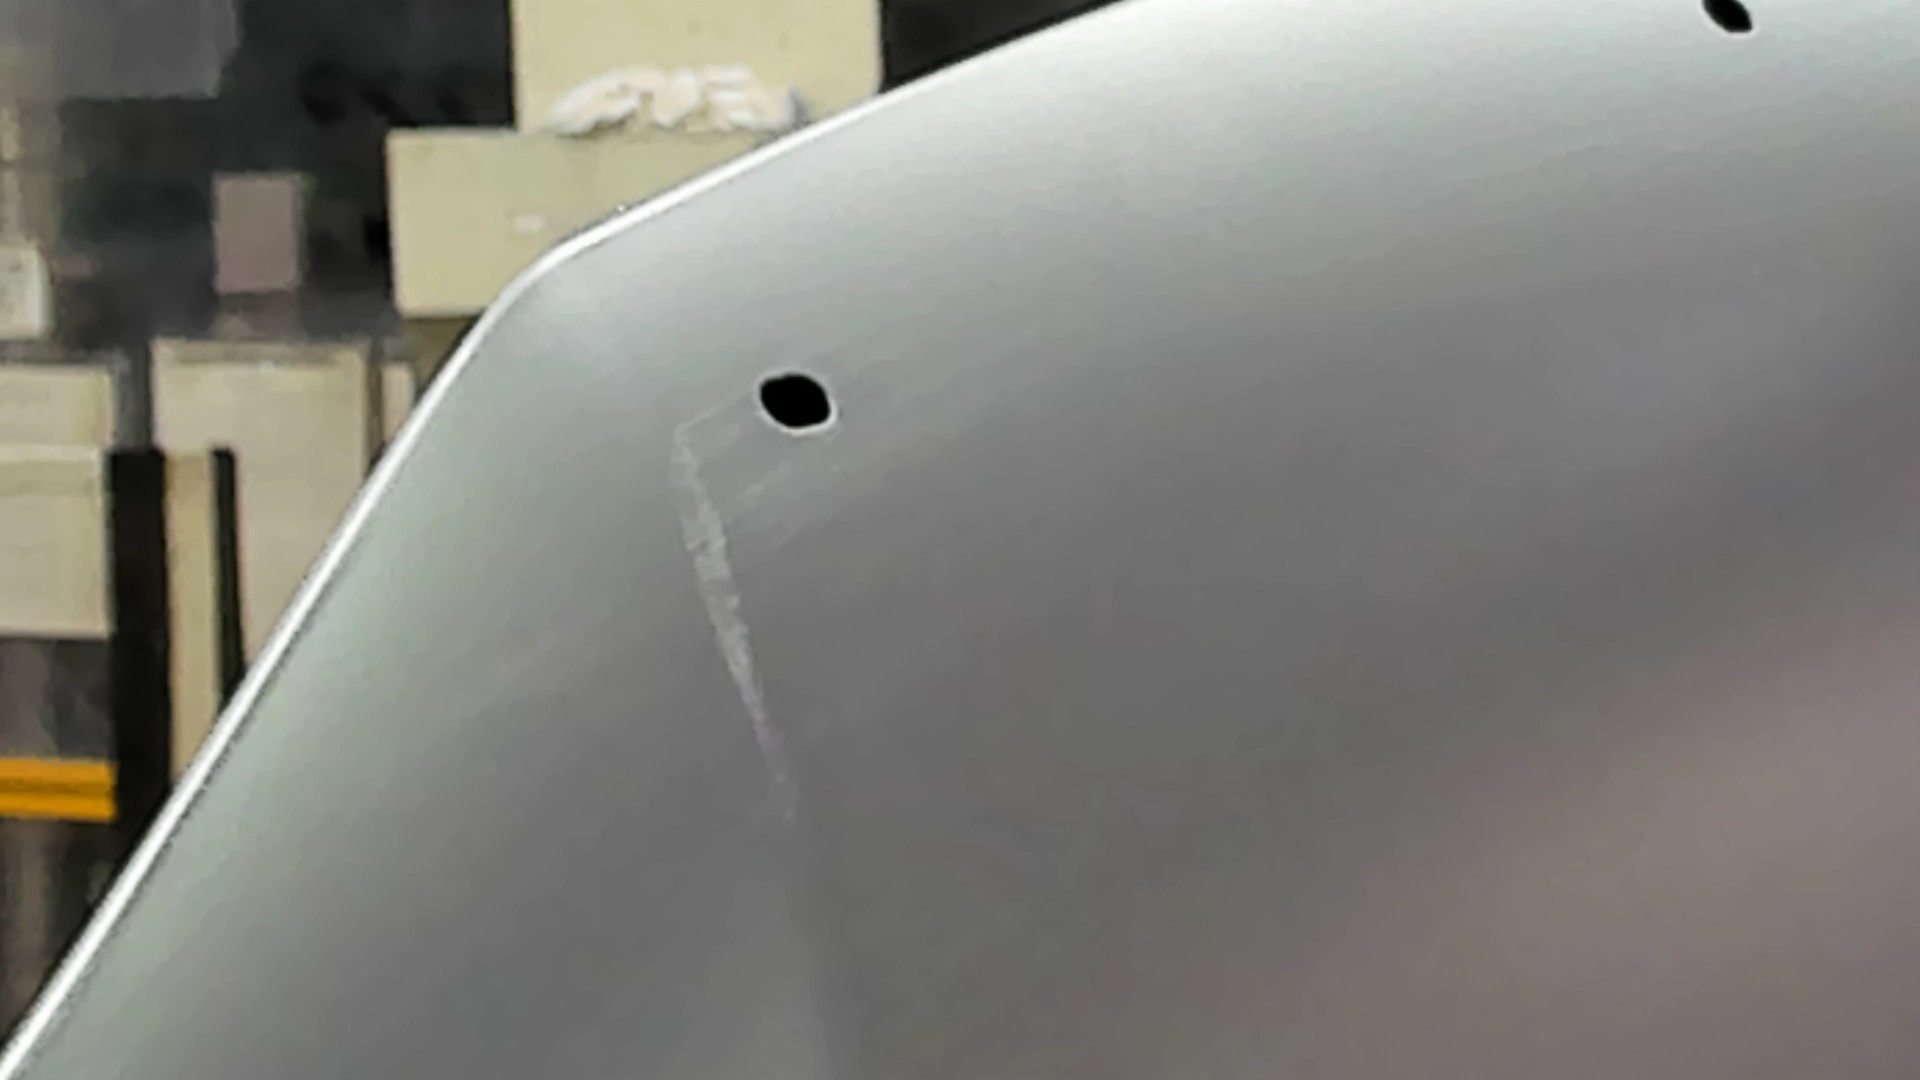amorfo: (750, 364, 845, 440), (1688, 1, 1760, 44)
capo: (938, 121, 1920, 1080)
